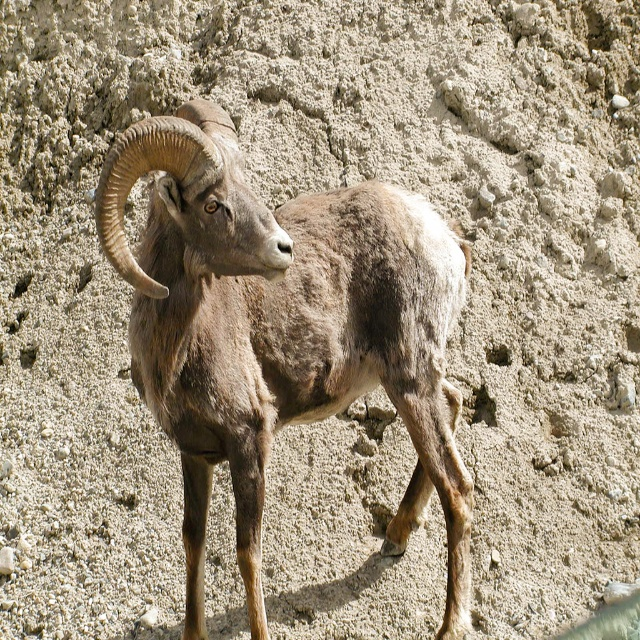Sheep: (94, 100, 475, 640)
